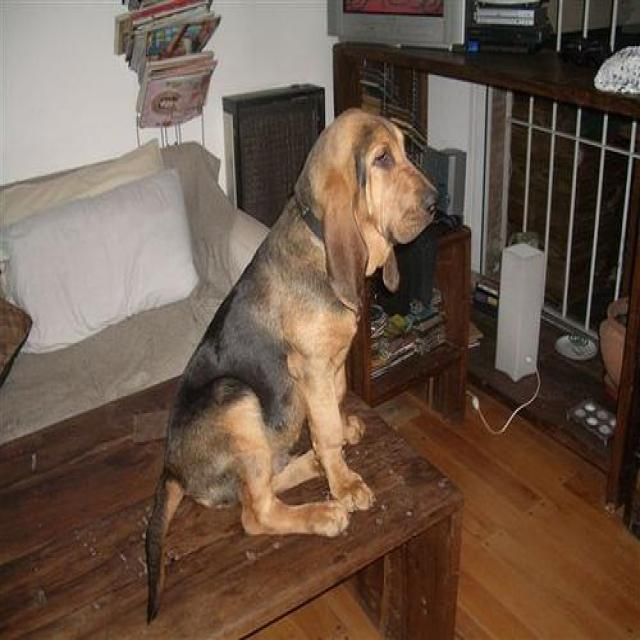bloodhound: (142, 104, 439, 630)
